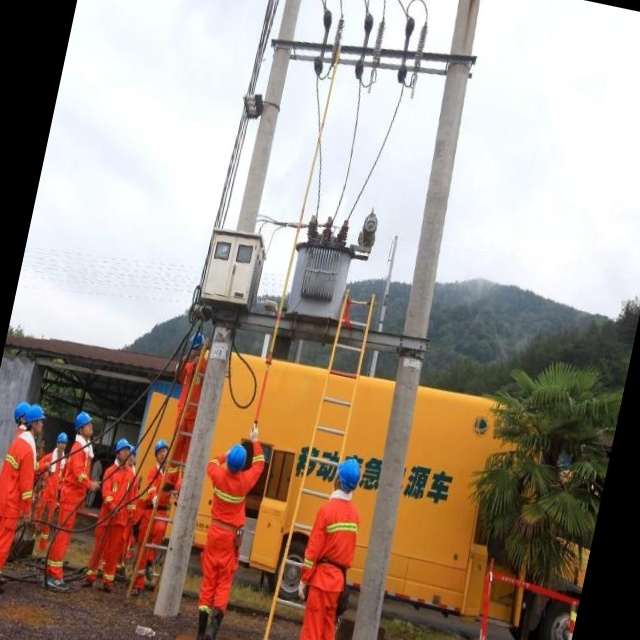Con_Casco: (333, 453, 363, 498), (224, 442, 249, 474), (75, 410, 98, 438)
Con_Chaleco: (303, 496, 366, 591), (205, 469, 254, 541)
